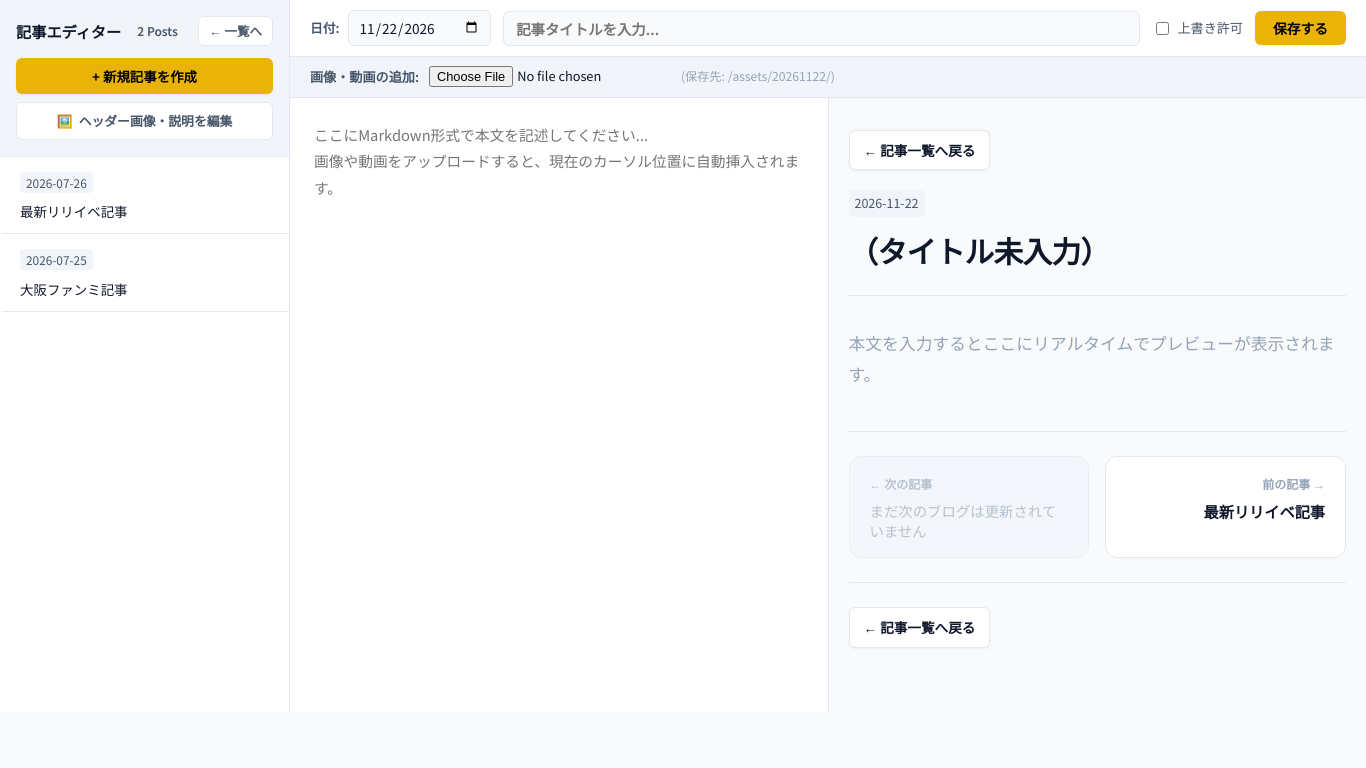
Test case: 04_ローカル記事エディター (/editor/) テスト › 04_記事エディター_04 「+ 新規記事を作成」ボタンでフォームが新規作成モードに初期化されること
The image size is (1366, 768).
Expected: the text "2 Posts" is shown, [129,18,186,44]
Click the list item "2026-07-26 最新リリイベ記事" at (144, 196), box [0,156,289,234]
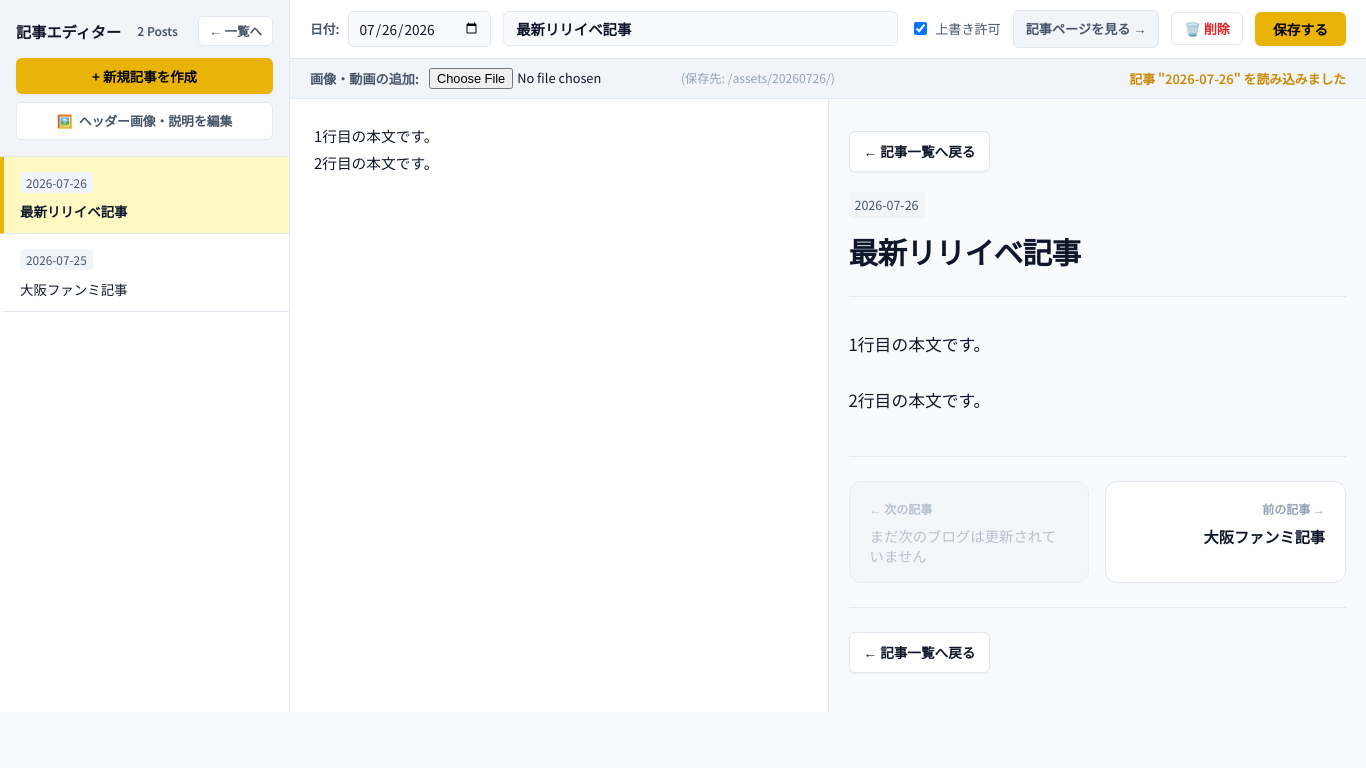
Now the field showing "最新リリイベ記事" is shown, box [503,11,898,46]
Click the button "+ 新規記事を作成" at (144, 76), box [16,58,273,94]
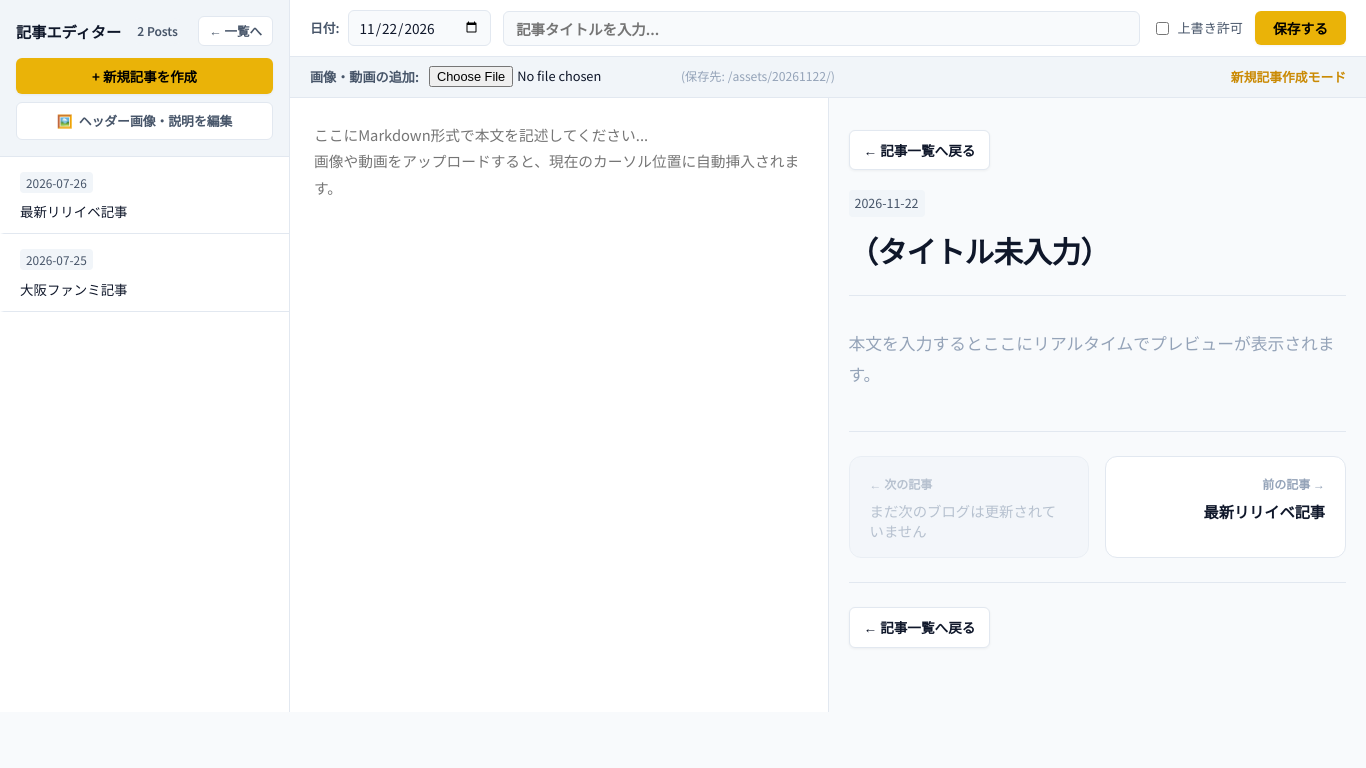
Now the field with placeholder "記事タイトルを入力..." is empty, box [503,10,1140,46]
Now the text "新規記事作成モード" is shown, box [1231,65,1346,88]
